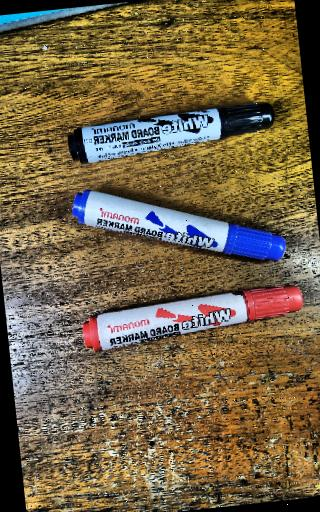marcador azul: (72, 190, 283, 260)
marcador negro: (68, 104, 274, 163)
marcador rojo: (82, 286, 302, 351)
